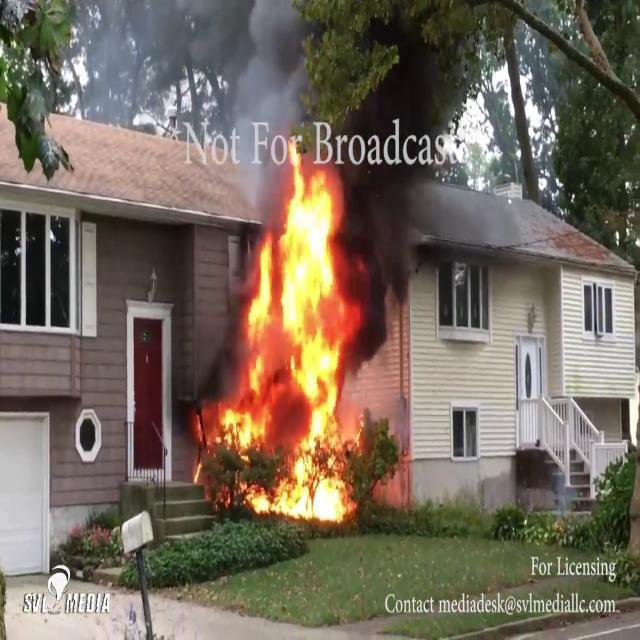Fire: (208, 134, 364, 524)
Smoke: (337, 6, 477, 320)
